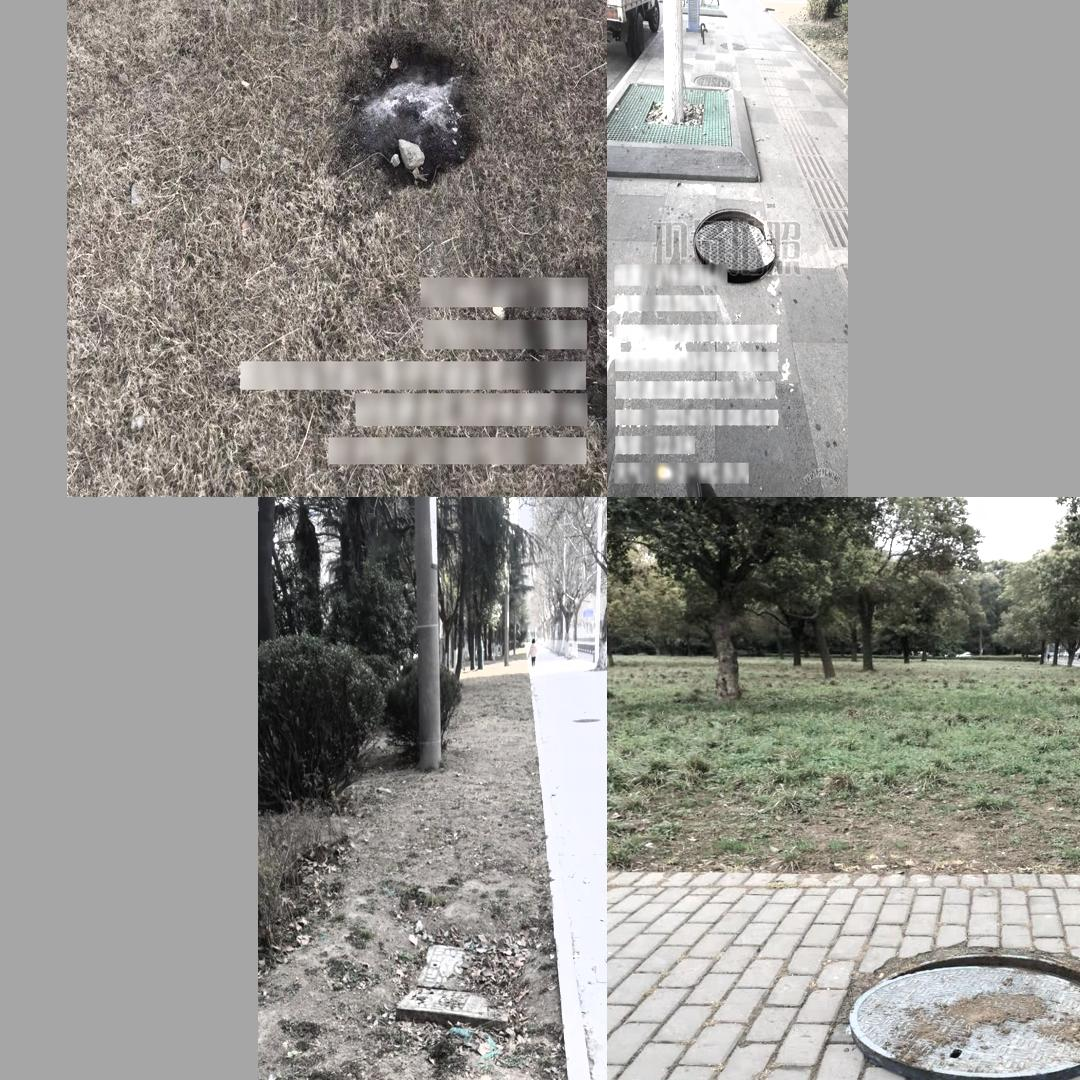uncovered: (847, 947, 1080, 1080), (393, 940, 513, 1023), (692, 207, 775, 284)
